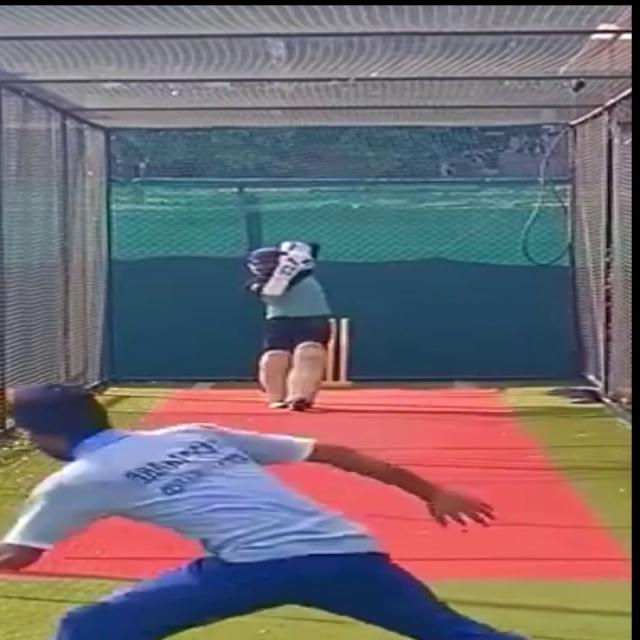stump: (318, 314, 354, 389)
